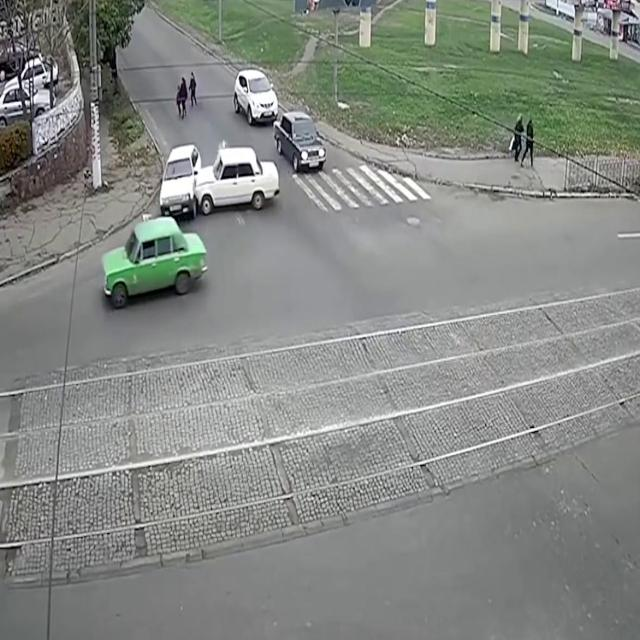accident: (156, 135, 282, 233)
non_accident: (232, 60, 329, 176)
